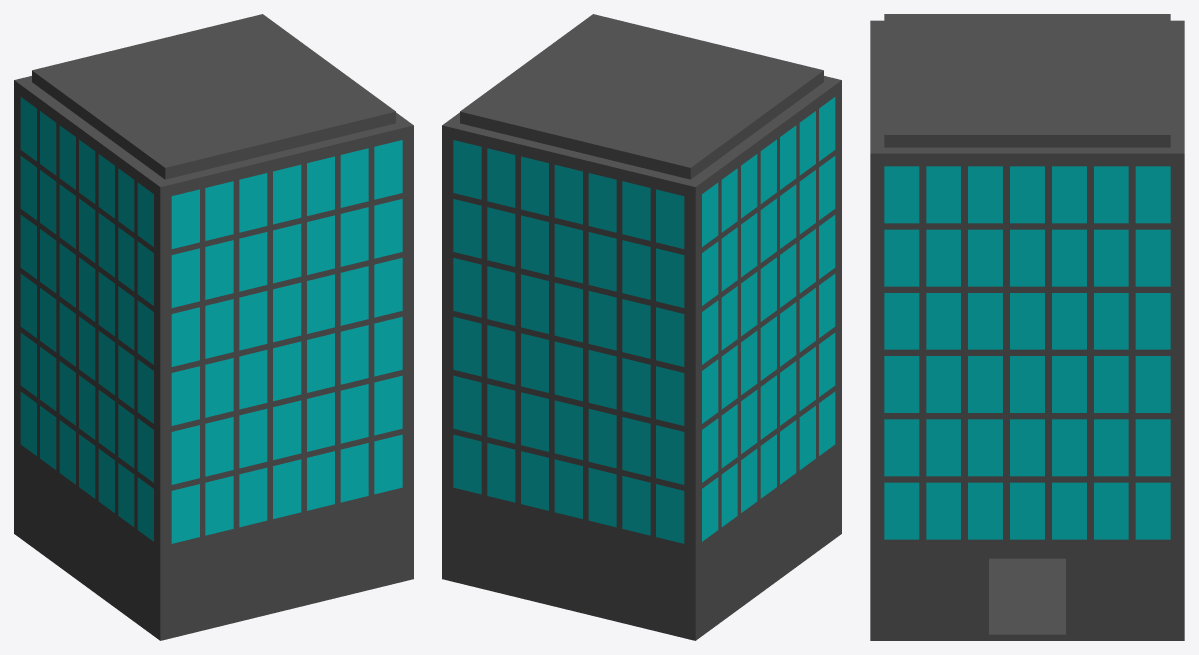
Rendered from little-tower-1.obj.
3 renders of one model, left to right at view 1: azimuth 30°, elevation 25°; view 2: azimuth 150°, elevation 25°; view 3: azimuth 270°, elevation 25°, orthographic. The views are drawn at different scales.
Bounding box in the file's own units: 45 × 79 × 45.
Materials: 1 (1 with a texture image).
